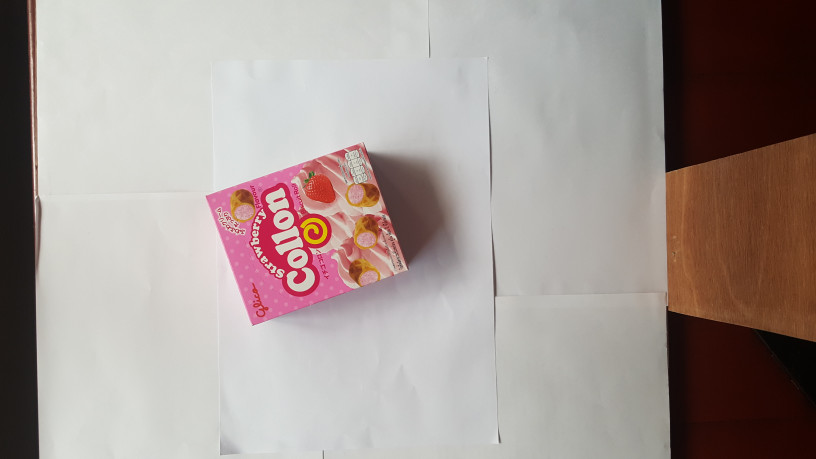collon-strawberry: (201, 140, 411, 324)
